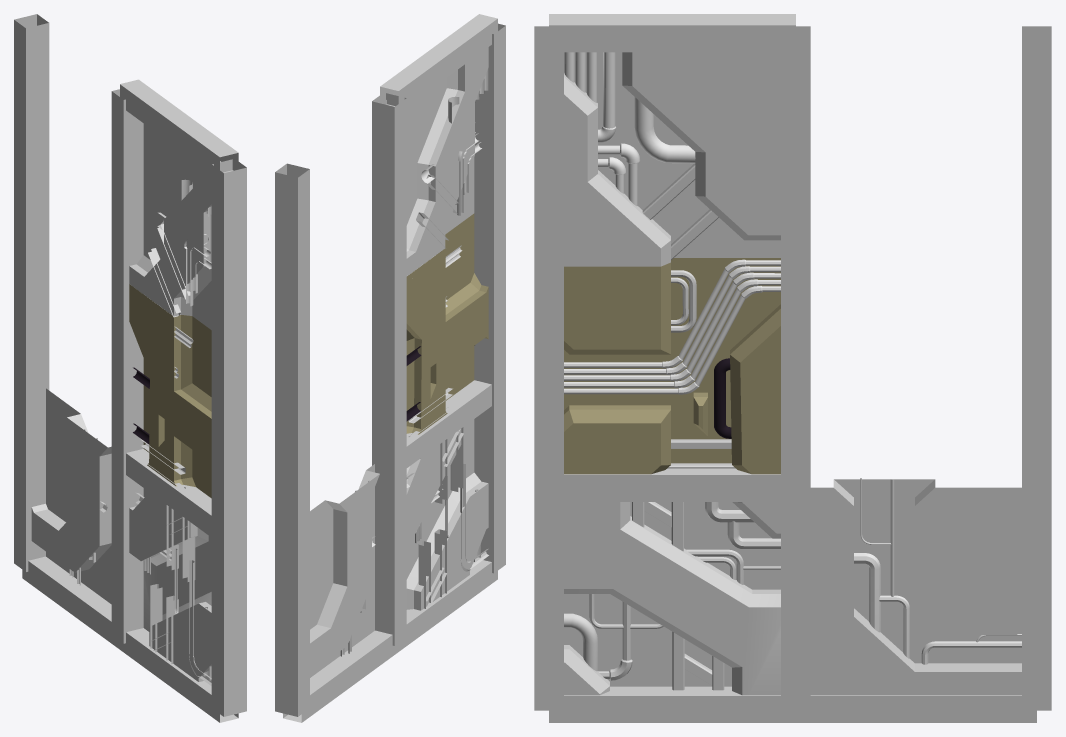
3 views of the same model, side by side, from view 1: azimuth 30°, elevation 25°; view 2: azimuth 150°, elevation 25°; view 3: azimuth 270°, elevation 25° (orthographic). The views are drawn at different scales.
Visible parts, largest first — view 1: Box008, Box012, Box006, Object029, Plane047, Plane046, Plane045, Box010, Box013, Box007, Box011, Box003 (+1 smaller); view 2: Box012, Box006, Box008, Object029, Plane046, Plane045, Plane047, Box010, Box013, Box007, Box011; view 3: Plane047, Plane046, Plane045, Object029, Box012, Box006, Box008, Box010, Line002, Box011, Box007, Box013 (+7 smaller).
Boxes of the visible parts, x1,y1,x2,y2 form: Box008: (211, 159, 246, 716); Box012: (14, 14, 49, 571); Box006: (111, 89, 143, 643); Object029: (129, 284, 211, 498); Plane047: (31, 388, 111, 604); Plane046: (129, 488, 211, 685); Plane045: (129, 124, 211, 329); Box010: (120, 79, 238, 172); Box013: (22, 556, 119, 649); Box007: (126, 449, 211, 537); Box011: (120, 628, 238, 722); Box003: (148, 224, 190, 317); Box012: (275, 163, 309, 716); Box006: (372, 93, 406, 645); Box008: (474, 23, 505, 573); Object029: (406, 213, 488, 434); Plane046: (406, 419, 488, 610); Plane045: (382, 47, 488, 276); Plane047: (310, 464, 379, 677); Box010: (380, 14, 497, 106); Box013: (283, 630, 399, 722); Box007: (406, 380, 491, 467); Box011: (398, 560, 497, 651); Plane047: (810, 479, 1021, 695); Plane046: (564, 502, 780, 695); Plane045: (564, 52, 780, 266); Object029: (564, 258, 780, 474); Box012: (1022, 26, 1051, 710); Box006: (781, 26, 810, 710); Box008: (534, 26, 563, 710); Box010: (549, 14, 795, 52); Line002: (564, 259, 780, 394); Box011: (549, 686, 795, 722); Box007: (564, 468, 780, 501); Box013: (791, 695, 1036, 722).
Bounding box in the file's own units: 162 × 3787 × 2546.
